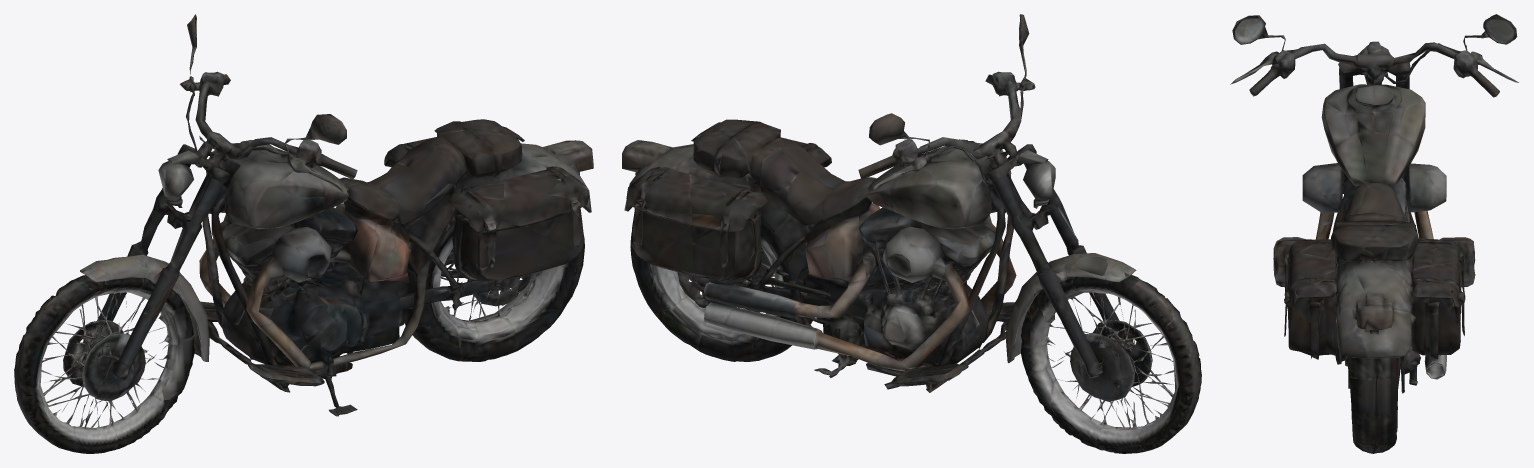
File: car_motorcycle_light_q2.glb
3 views of the same model, side by side, from view 1: azimuth 30°, elevation 25°; view 2: azimuth 150°, elevation 25°; view 3: azimuth 270°, elevation 25° (orthographic). The views are drawn at different scales.
Bounding box in the file's own units: 2.58 × 1.5 × 1.21.
Materials: 1 (1 with a texture image).
